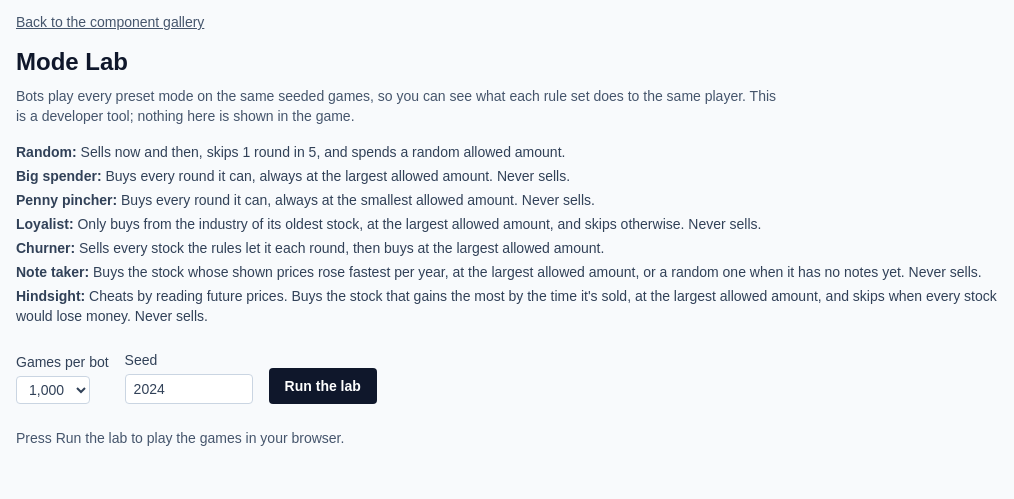
Test: ModeLab › rejects a seed that isn't a whole number and runs nothing
The width and height of the screenshot is (1014, 499).
Select "100" in the dropdown labelled "Games per bot" at {"x": 53, "y": 390}, box [16,376,90,404]
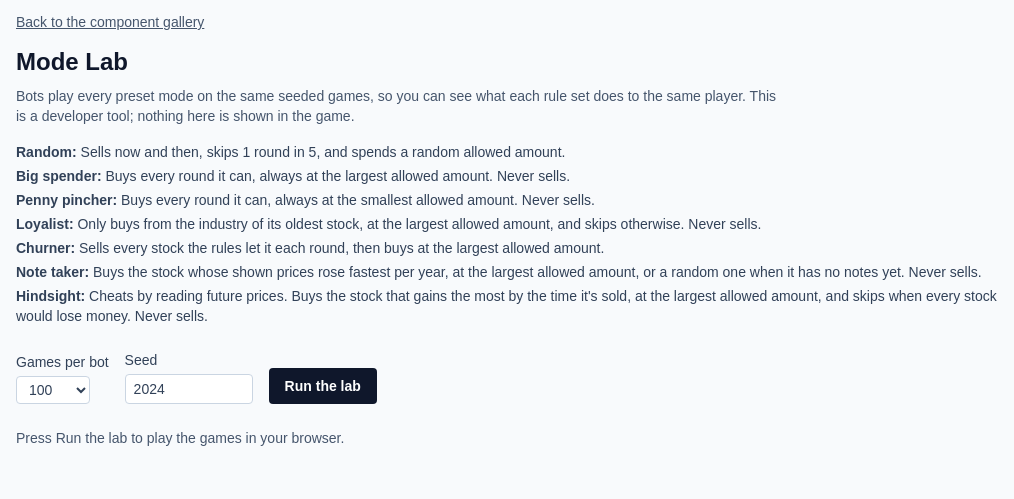
Replace the text in the field labelled "Seed" with "abc" at {"x": 189, "y": 389}, box [125,374,253,404]
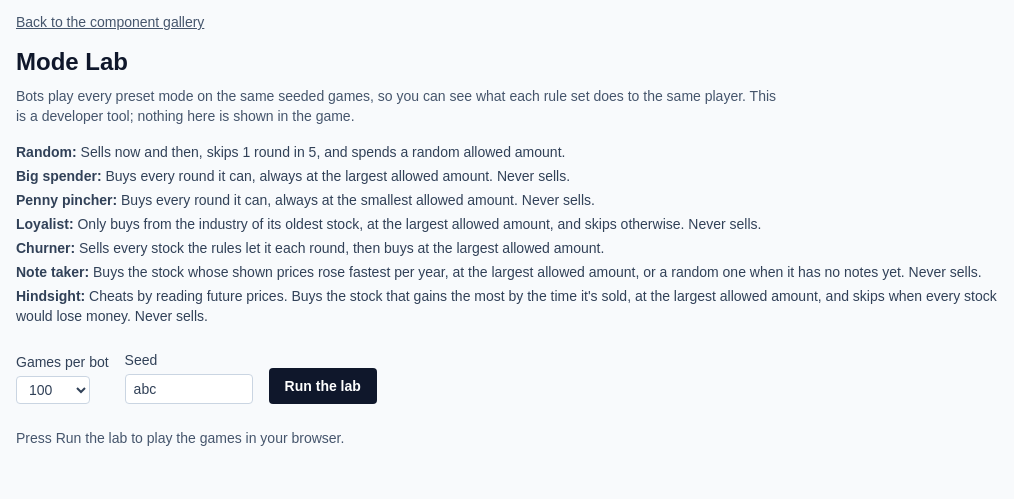
Click the button "Run the lab" at {"x": 323, "y": 386}, box [269,368,377,404]
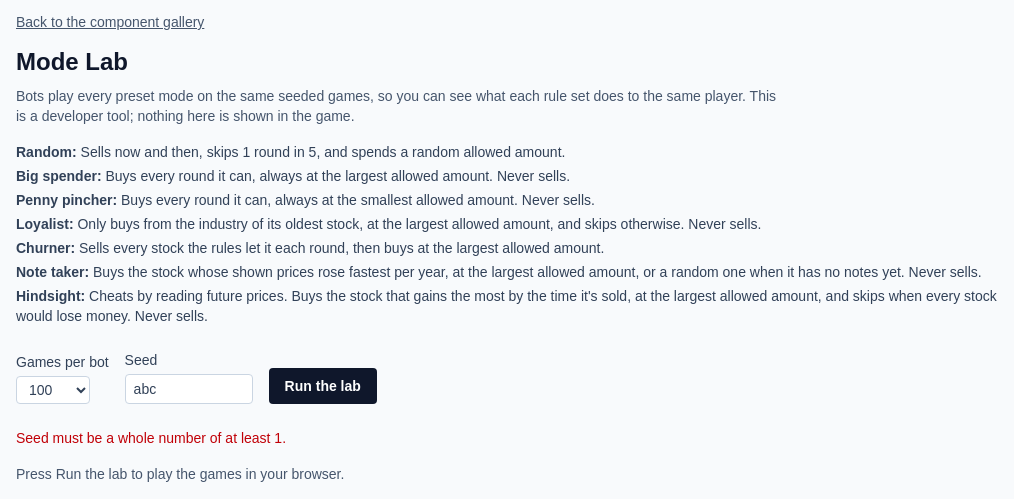
Check: the text "Seed must be a whole number of at least 1." is shown, box [16,430,286,446]
